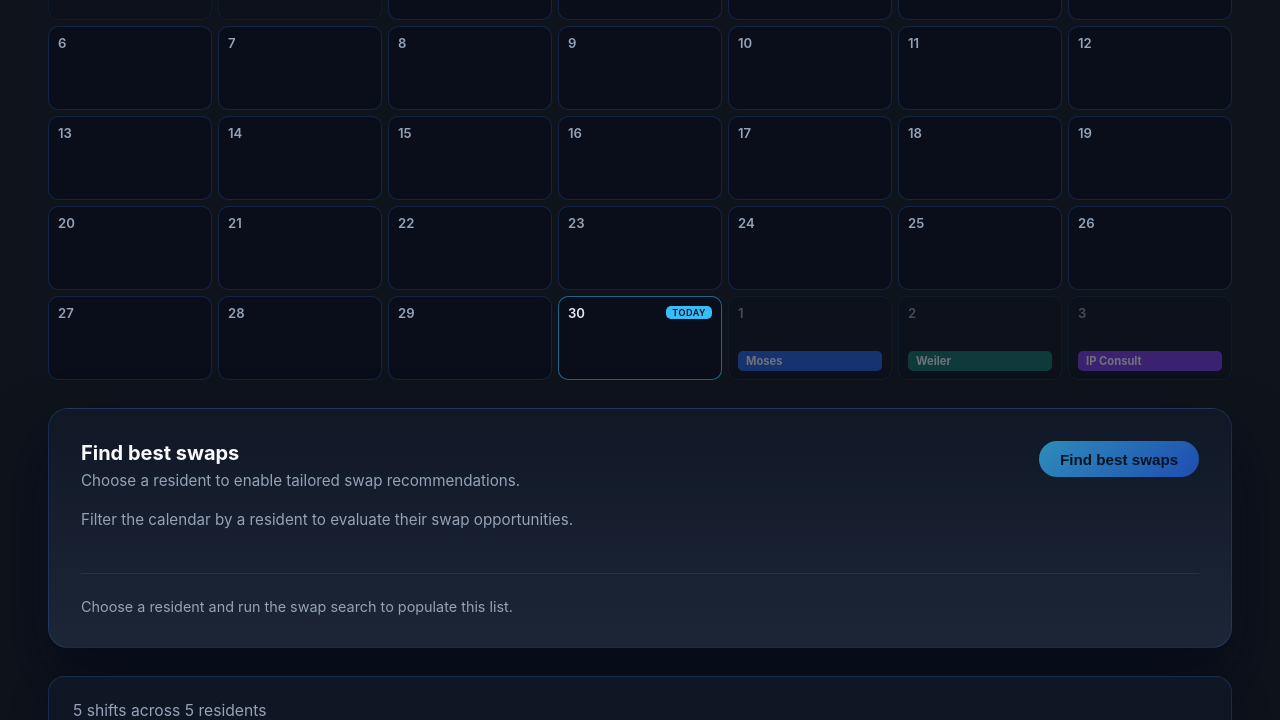
Test: App side panel selection › clears the selection when the resident filter hides the shift
(page scrolled)
Check: the text "5 shifts across 5 residents" is shown, box left=73, top=701, right=266, bottom=719
Click the button with aria-label "shift on Oct 1, 2026".
click(810, 361)  # box left=738, top=351, right=882, bottom=371
(page scrolled)
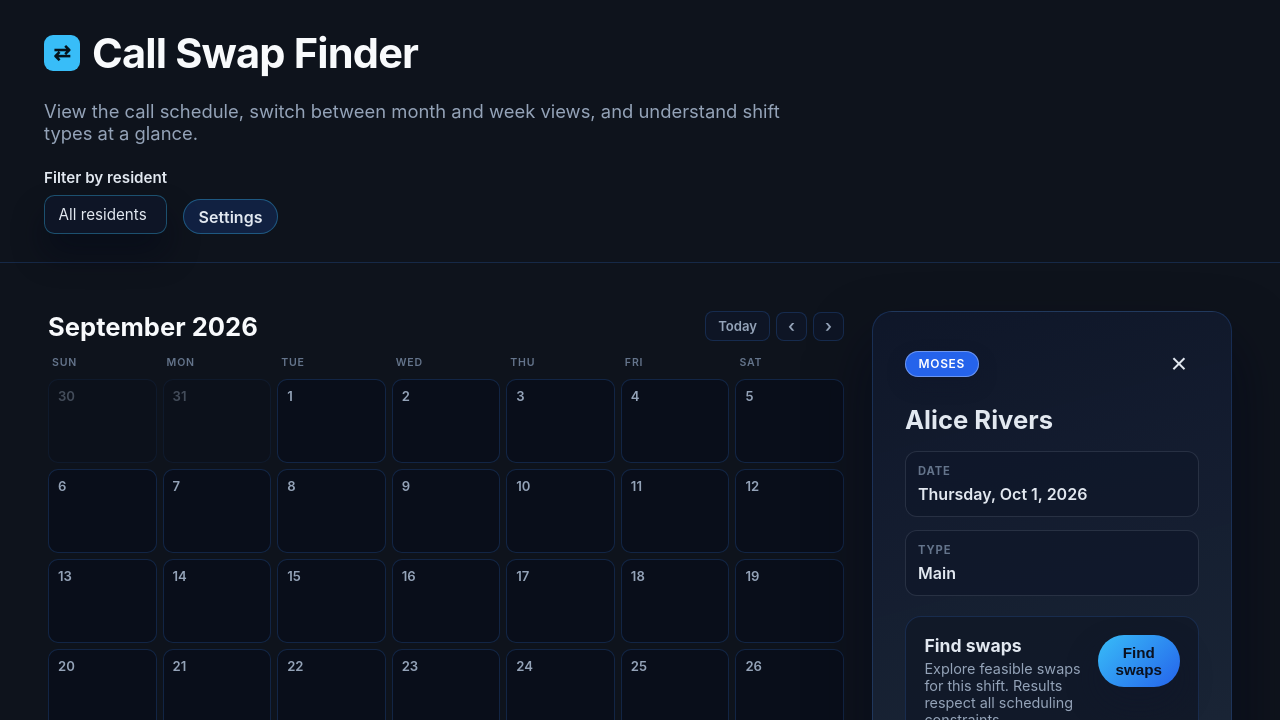
Check: the heading "Alice Rivers" is shown, box left=905, top=404, right=1053, bottom=435
Select "Bob Stone" in the dropdown labelled "Filter by resident" at (106, 215), box left=44, top=195, right=167, bottom=234
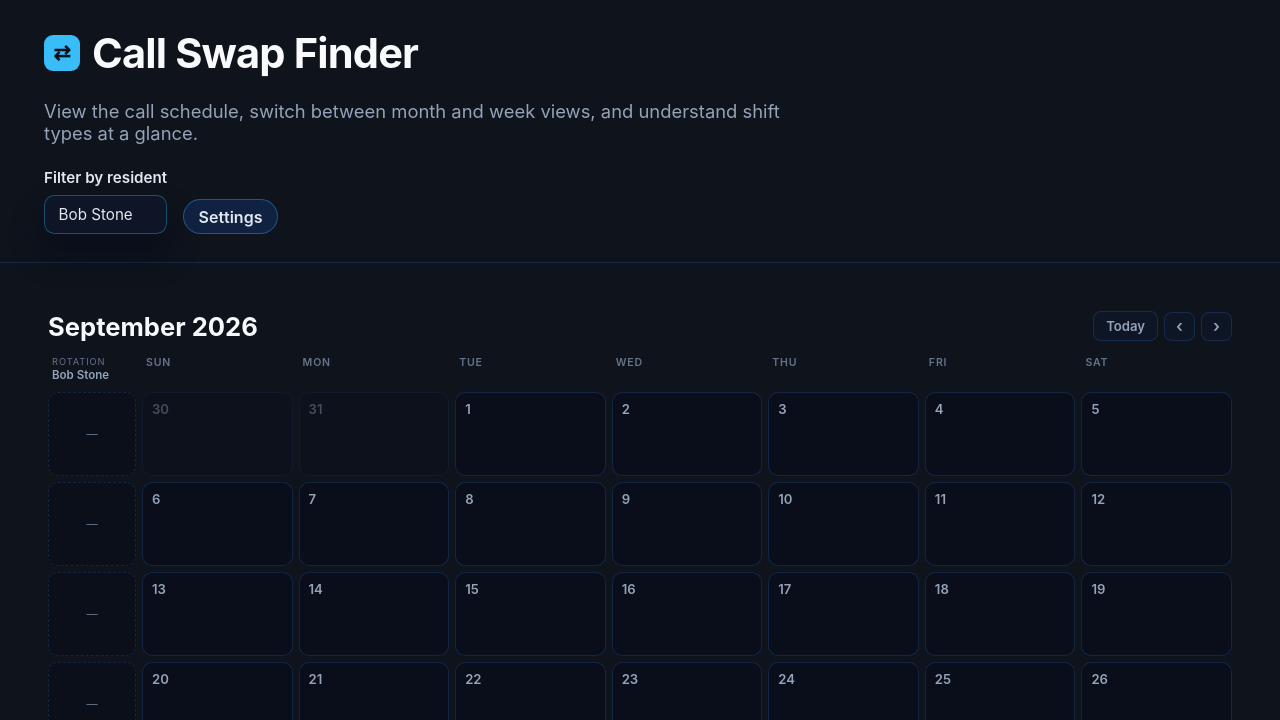
Check: the heading "Alice Rivers" is gone
